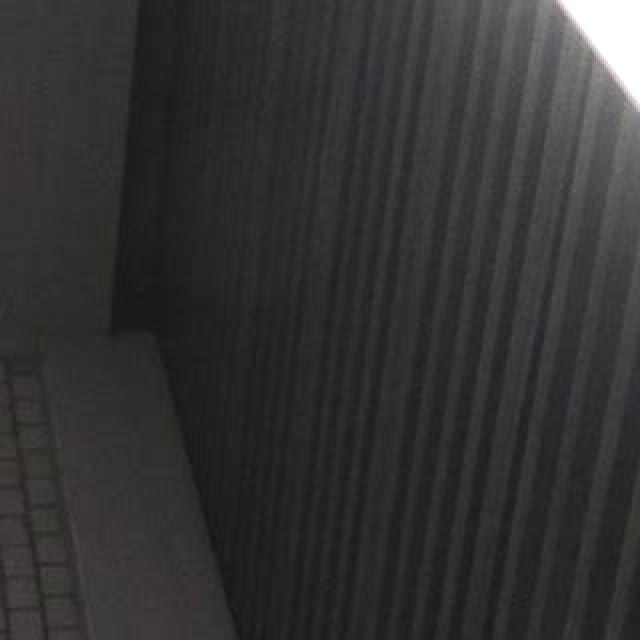fluorescent tube: (180, 0, 640, 540)
